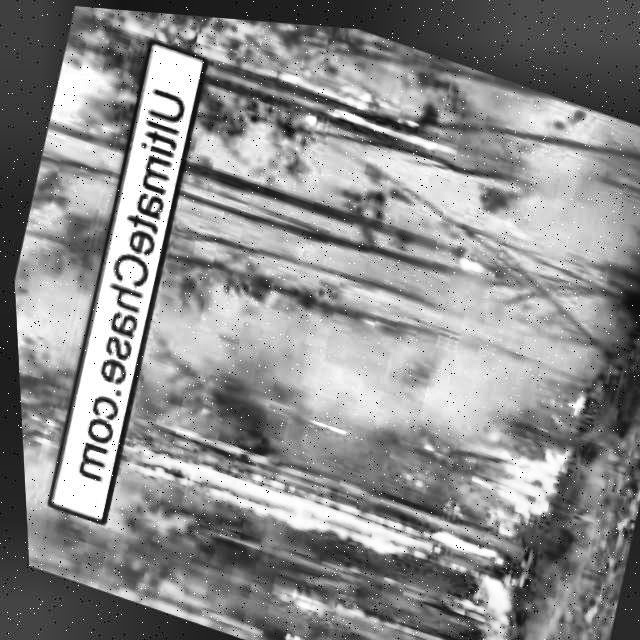Fire: (106, 428, 456, 579), (413, 403, 569, 640), (293, 56, 477, 172), (262, 563, 371, 631), (116, 7, 201, 54), (275, 616, 328, 640)
Smoke: (108, 85, 517, 528), (410, 61, 640, 441), (2, 47, 158, 575)
